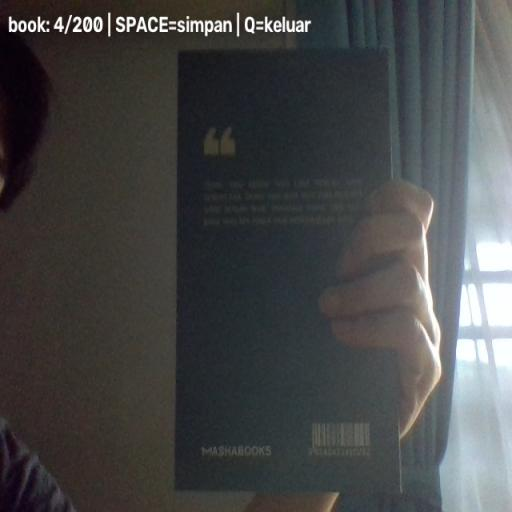Book: (174, 46, 403, 495)
